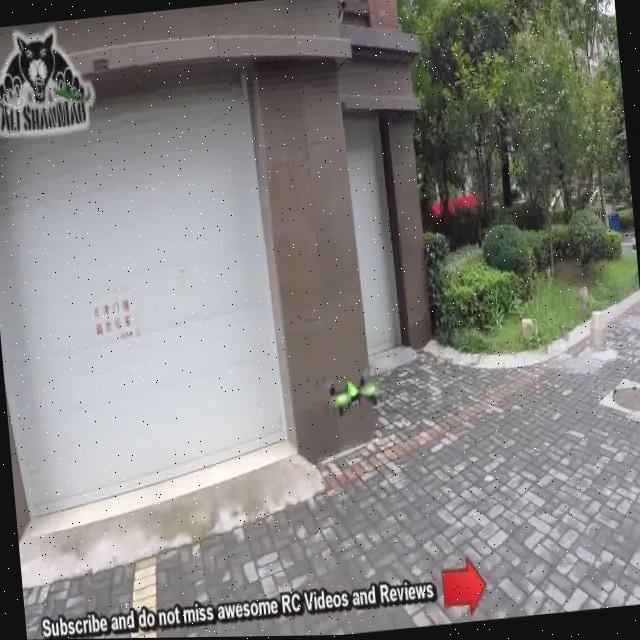drone: (307, 349, 403, 450)
